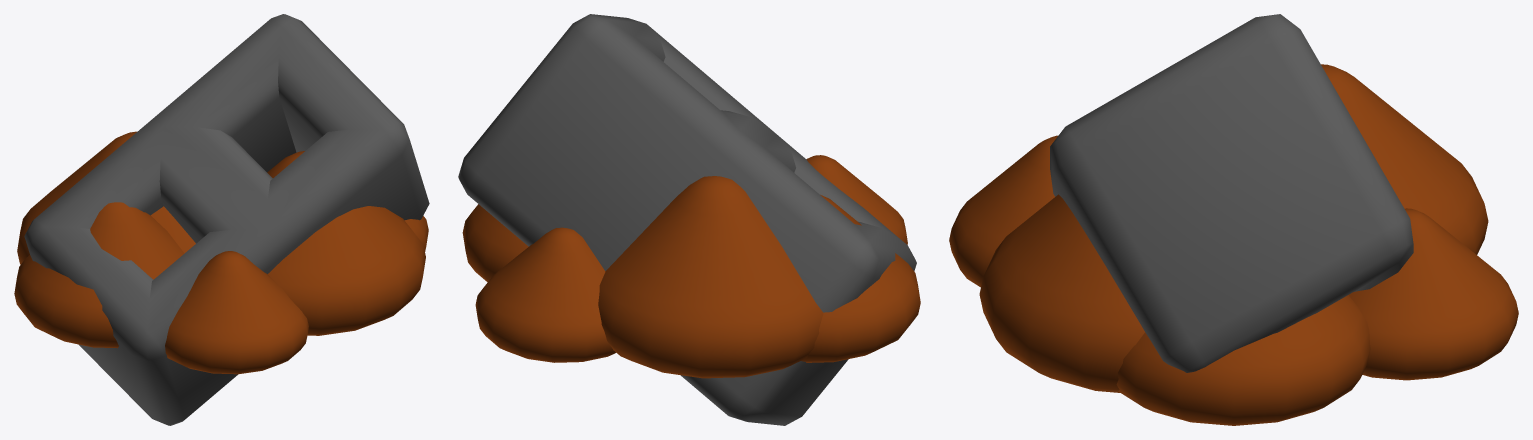
The model's file is LastLuna_Model_Node_Dirt_Concrete.fbx.
The picture shows the model from 3 angles, left to right: view 1: azimuth 30°, elevation 25°; view 2: azimuth 150°, elevation 25°; view 3: azimuth 270°, elevation 25°; orthographic projection. The views are drawn at different scales.
Visible parts, largest first — view 1: Concrete001, Dirt_Floor004, Dirt_Floor006, Dirt_Floor001, Dirt_Floor003, Dirt_Floor002; view 2: Concrete001, Dirt_Floor003, Dirt_Floor005, Dirt_Floor001, Dirt_Floor002, Dirt_Floor006; view 3: Concrete001, Dirt_Floor004, Dirt_Floor002, Dirt_Floor005, Dirt_Floor003, Dirt_Floor006.
Boxes of the visible parts, x1,y1,x2,y2 form: Concrete001: [24, 14, 429, 425]; Dirt_Floor004: [267, 151, 425, 335]; Dirt_Floor006: [165, 251, 308, 374]; Dirt_Floor001: [14, 202, 184, 348]; Dirt_Floor003: [17, 131, 195, 264]; Dirt_Floor002: [404, 216, 428, 251]; Concrete001: [458, 14, 916, 425]; Dirt_Floor003: [598, 176, 823, 378]; Dirt_Floor005: [475, 227, 615, 362]; Dirt_Floor001: [801, 194, 920, 362]; Dirt_Floor002: [462, 204, 528, 282]; Dirt_Floor006: [806, 155, 907, 244]; Concrete001: [1050, 14, 1413, 372]; Dirt_Floor004: [979, 194, 1144, 392]; Dirt_Floor002: [1116, 295, 1370, 425]; Dirt_Floor005: [1349, 208, 1518, 380]; Dirt_Floor003: [1321, 64, 1488, 254]; Dirt_Floor006: [949, 135, 1057, 287].
Bounding box in the file's own units: 35.64 × 31.03 × 32.45.
